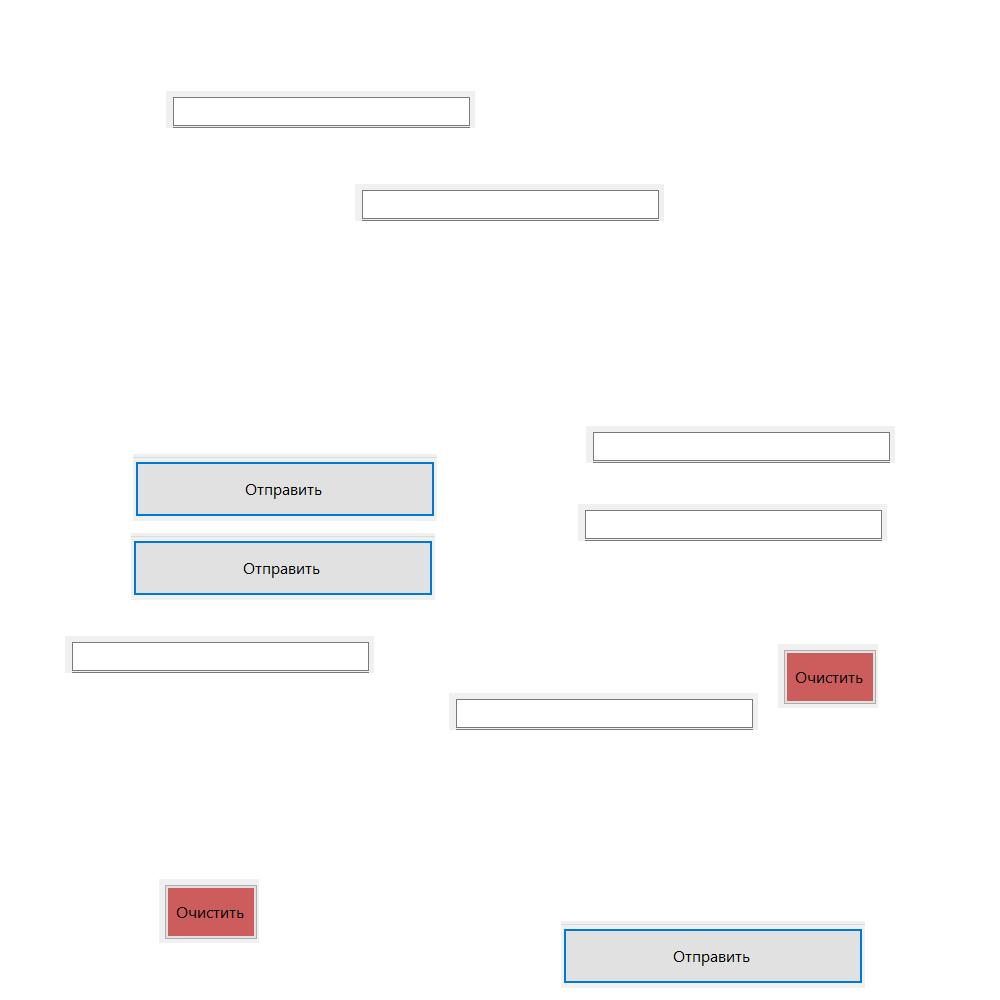Button: (561, 921, 865, 988), (133, 454, 437, 521), (131, 533, 435, 600), (159, 879, 259, 943), (778, 644, 878, 708)
EditText-: (586, 426, 895, 463), (578, 504, 887, 541), (166, 91, 475, 128), (65, 636, 374, 673), (449, 693, 758, 730), (355, 184, 664, 221)
